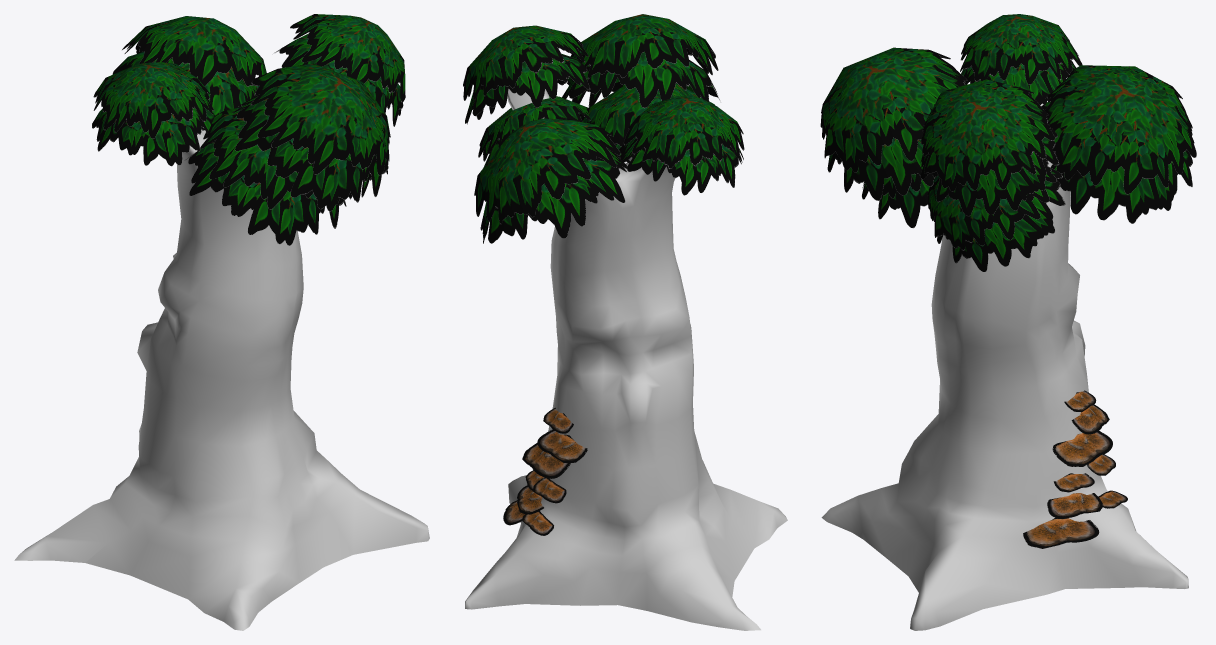
File: OldOakTreeV1Shroomed.fbx
The picture shows the model from 3 angles, left to right: view 1: azimuth 30°, elevation 25°; view 2: azimuth 150°, elevation 25°; view 3: azimuth 270°, elevation 25°; orthographic projection. The views are drawn at different scales.
Parts seen in each view (by area): view 1: polySurface14; view 2: polySurface14; view 3: polySurface14.
Boxes of the visible parts, x1,y1,x2,y2 form: polySurface14: [14, 14, 429, 630]; polySurface14: [463, 14, 787, 630]; polySurface14: [820, 14, 1196, 630].
Bounding box in the file's own units: 2488 × 3573 × 2415.
